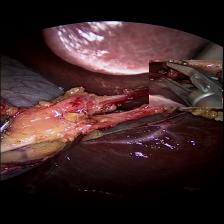Clipper: (149, 59, 222, 106)
